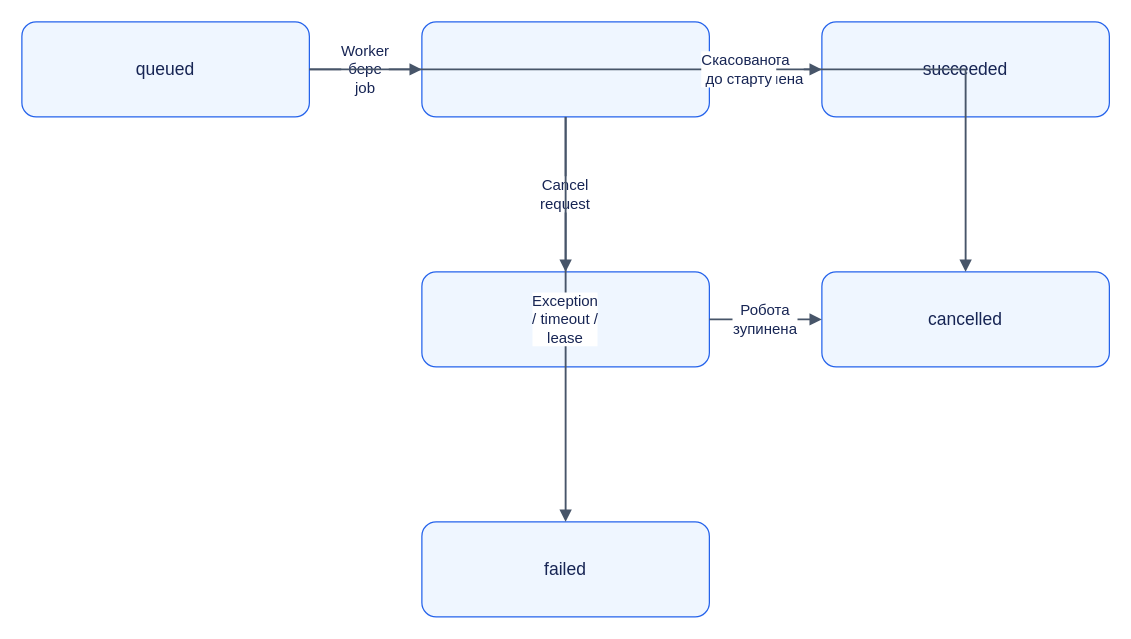
Image size: 1131x639. Some labels were removed from this diagram. The shapes that lost their labels are listed below. From the top down, each one's centre as x and y in pixels, then its label:
At (565,69): "running".
At (565,319): "cancelling".
